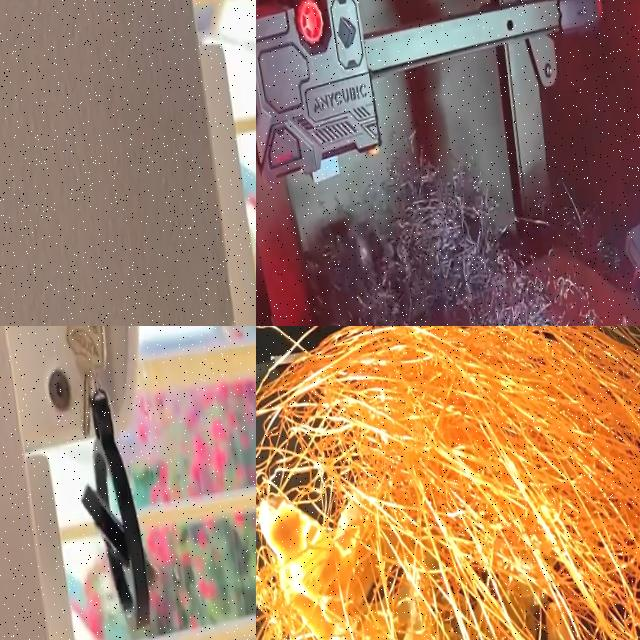spaghetti: (256, 326, 640, 640), (266, 121, 640, 326)
